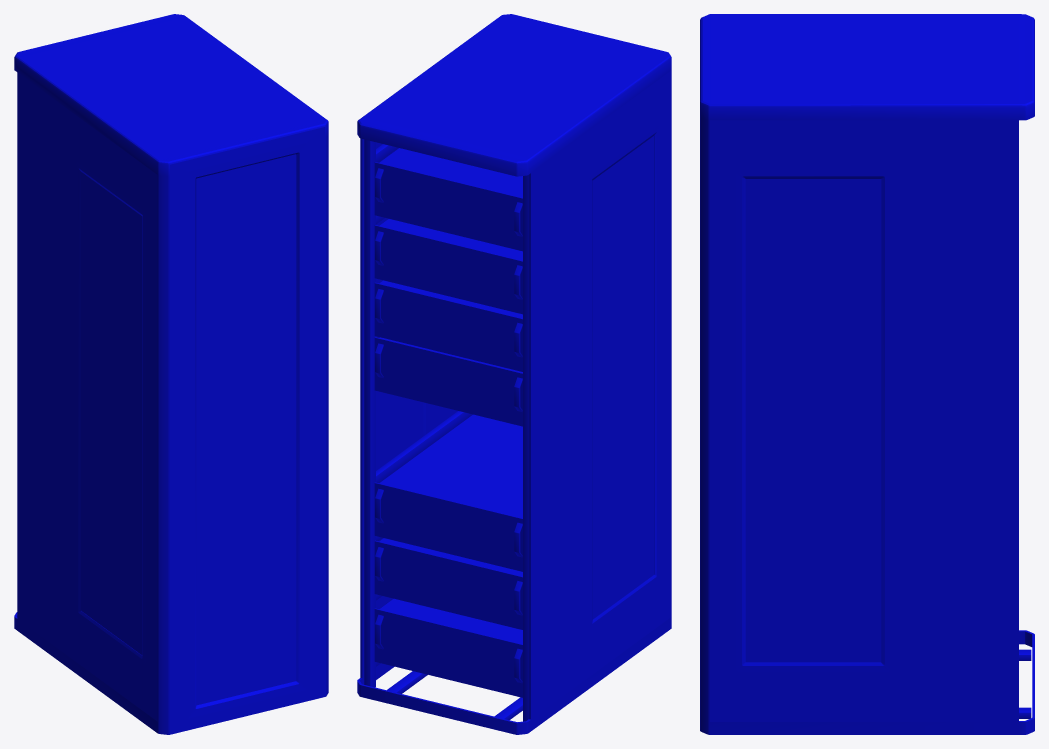
Rendered from ServerCabinet_Nodoor.FBX.
3 views of the same model, side by side, from view 1: azimuth 30°, elevation 25°; view 2: azimuth 150°, elevation 25°; view 3: azimuth 270°, elevation 25° (orthographic). The views are drawn at different scales.
Visible parts, largest first — view 1: Server_Rack_Low; view 2: Server_Rack_Low; view 3: Server_Rack_Low.
Boxes of the visible parts, left/top/right/bottom form: Server_Rack_Low: left=14, top=14, right=328, bottom=734; Server_Rack_Low: left=357, top=14, right=671, bottom=734; Server_Rack_Low: left=700, top=14, right=1034, bottom=734.
Size of the model in its own units: 22.84 by 73.13 by 35.23.
